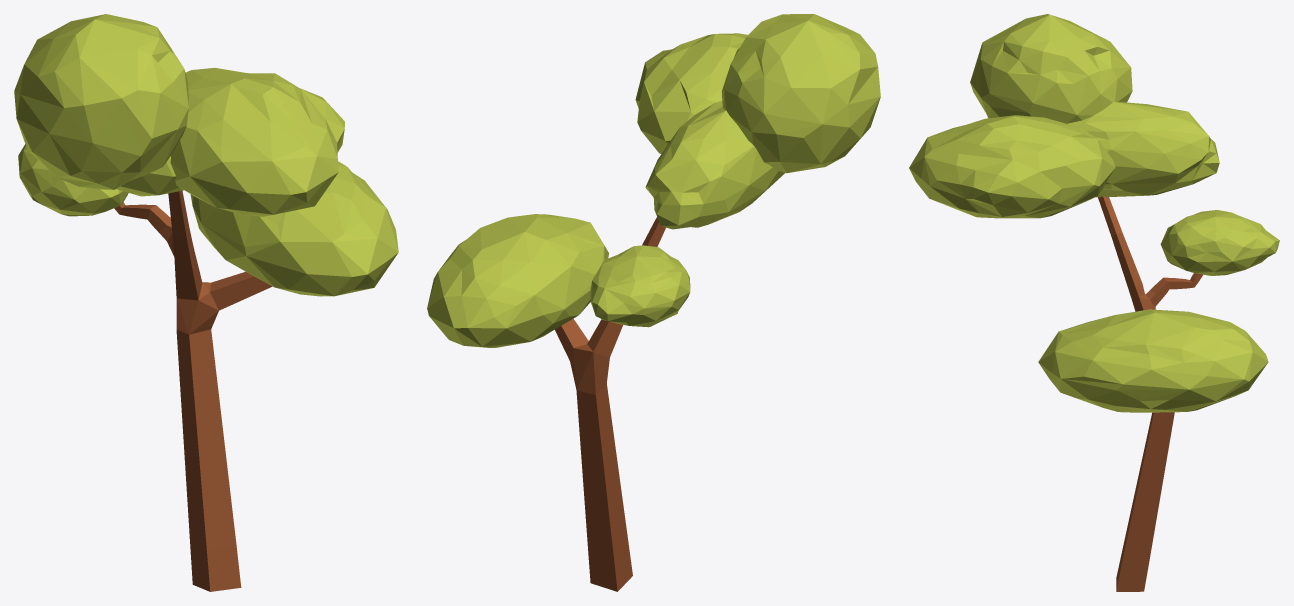
File: New_Tree_8.fbx
3 renders of one model, left to right at view 1: azimuth 30°, elevation 25°; view 2: azimuth 150°, elevation 25°; view 3: azimuth 270°, elevation 25°, orthographic. The views are drawn at different scales.
Visible parts, largest first — view 1: Icosphere.079, Icosphere.081, Cube.014, Icosphere.078, Icosphere.080, Icosphere.082; view 2: Icosphere.079, Icosphere.078, Cube.014, Icosphere.082, Icosphere.081, Icosphere.080; view 3: Icosphere.078, Icosphere.081, Icosphere.079, Icosphere.082, Cube.014, Icosphere.080.
Boxes of the visible parts, bbox=[...] form: Icosphere.079: bbox=[14, 14, 188, 189]; Icosphere.081: bbox=[170, 68, 344, 216]; Cube.014: bbox=[114, 190, 272, 591]; Icosphere.078: bbox=[190, 161, 398, 296]; Icosphere.080: bbox=[18, 144, 128, 216]; Icosphere.082: bbox=[116, 156, 183, 196]; Icosphere.079: bbox=[721, 14, 880, 173]; Icosphere.078: bbox=[427, 214, 608, 347]; Cube.014: bbox=[555, 217, 665, 591]; Icosphere.082: bbox=[645, 101, 784, 229]; Icosphere.081: bbox=[635, 33, 747, 153]; Icosphere.080: bbox=[590, 245, 690, 327]; Icosphere.078: bbox=[1038, 309, 1268, 412]; Icosphere.081: bbox=[909, 115, 1115, 218]; Icosphere.079: bbox=[970, 14, 1132, 123]; Icosphere.082: bbox=[1067, 102, 1219, 197]; Cube.014: bbox=[1098, 196, 1203, 591]; Icosphere.080: bbox=[1160, 210, 1279, 275].
Size of the model in its own units: 756 by 1159 by 769.
